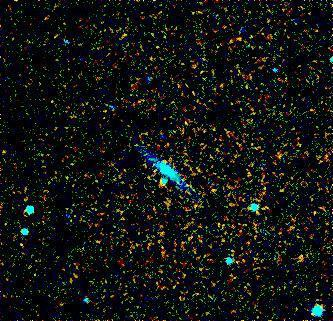star: (149, 142, 179, 172)
